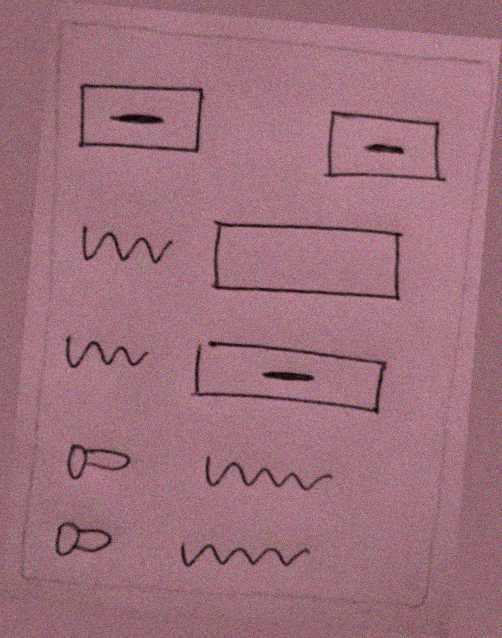button: (183, 333, 394, 423), (67, 72, 223, 173), (315, 102, 458, 197)
switch: (54, 432, 138, 493), (47, 511, 121, 566)
text: (190, 443, 342, 505), (167, 528, 316, 585), (70, 213, 179, 284), (58, 323, 159, 382)
text_input: (200, 209, 417, 314)
